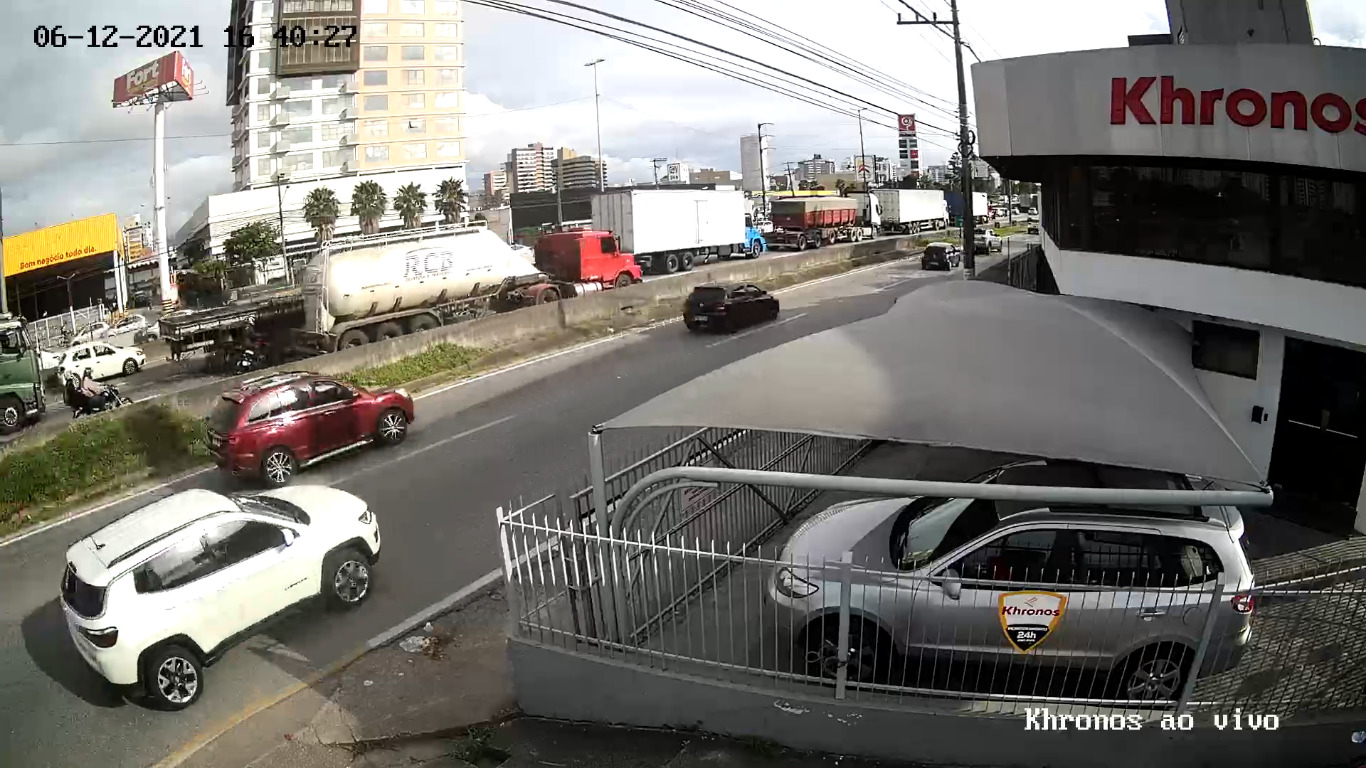car: (61, 485, 382, 708), (202, 370, 416, 483)
